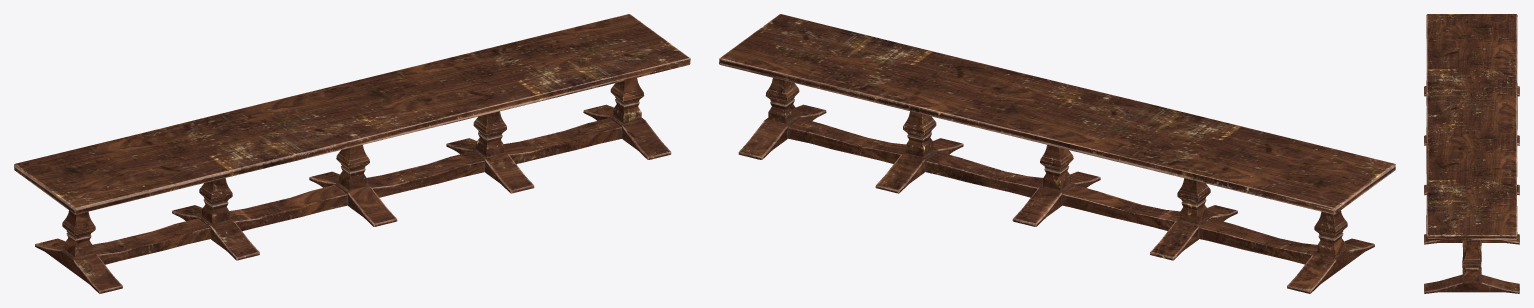
The model's file is house-table.glb.
3 views of the same model, side by side, from view 1: azimuth 30°, elevation 25°; view 2: azimuth 150°, elevation 25°; view 3: azimuth 270°, elevation 25° (orthographic). The views are drawn at different scales.
Visible parts, largest first — view 1: table; view 2: table; view 3: table.
Part boxes in pixels (x1,y1,x2,y2): table: (14,14,690,293); table: (719,14,1395,293); table: (1424,14,1519,293).
Size of the model in its own units: 7.5 by 1.04 by 1.37.
Materials: 1 (1 with a texture image).
